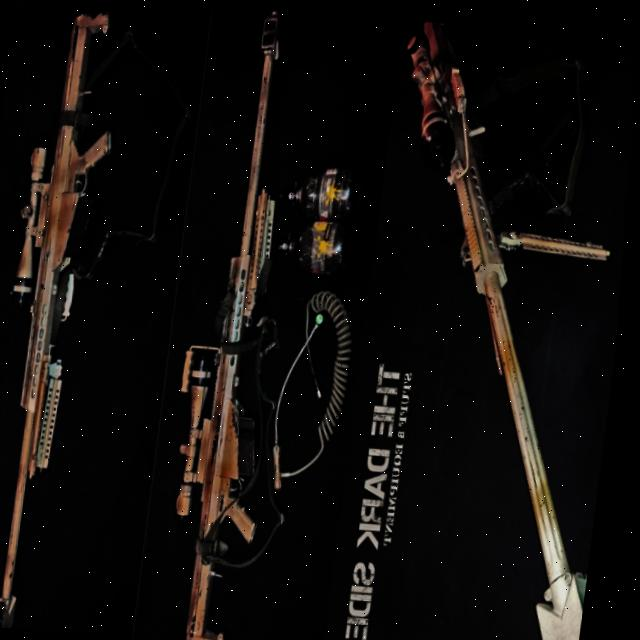grenade: (282, 155, 373, 214), (279, 211, 360, 276)
